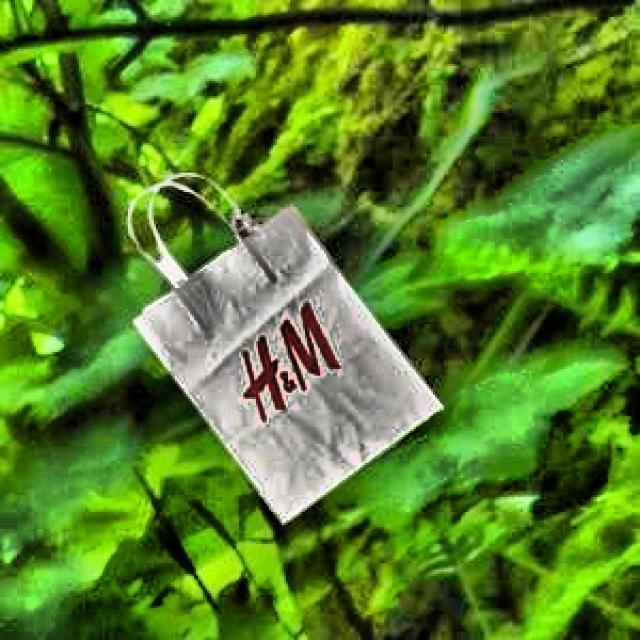Paper-bag: (109, 163, 445, 537)
